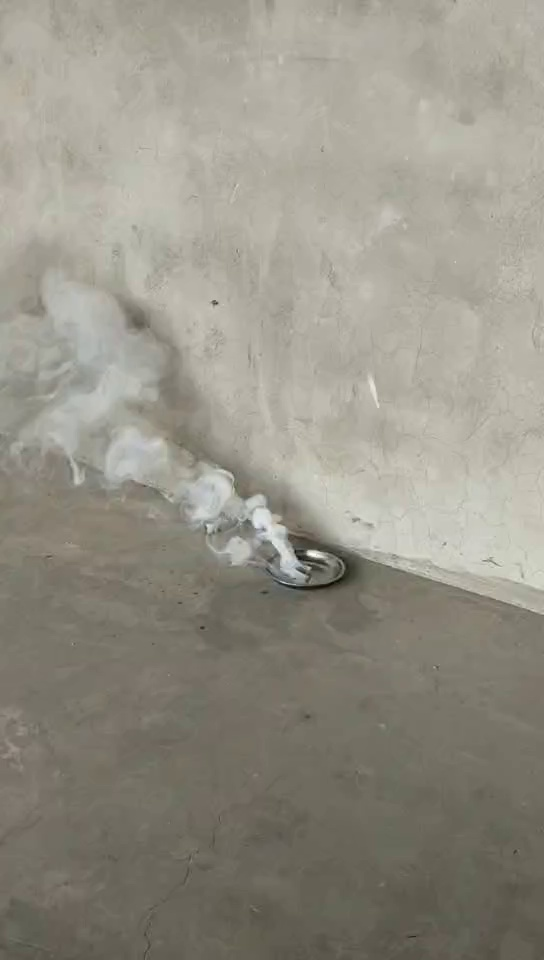yanwu: (31, 321, 303, 578)
